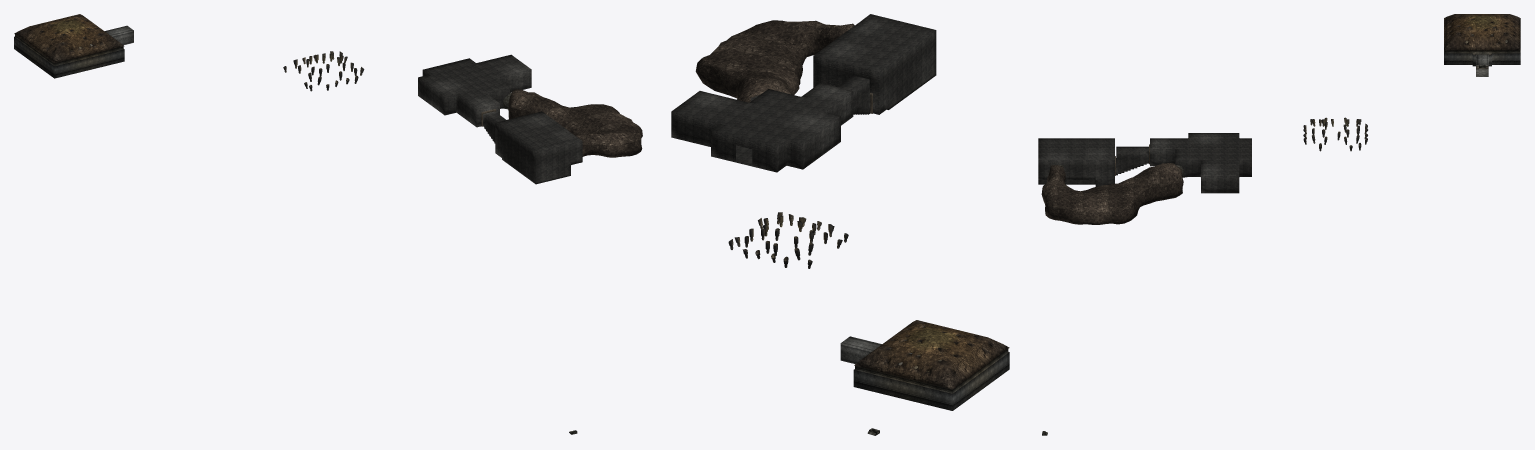
3 renders of one model, left to right at view 1: azimuth 30°, elevation 25°; view 2: azimuth 150°, elevation 25°; view 3: azimuth 270°, elevation 25°, orthographic. The views are drawn at different scales.
Visible parts, largest first — view 1: Chunk-0_Mesh-0, Chunk-12_Mesh-0, Chunk-2_Mesh-3, Chunk-11_Mesh-0, Chunk-2_Mesh-2, Chunk-1_Mesh-0; view 2: Chunk-0_Mesh-0, Chunk-2_Mesh-3, Chunk-12_Mesh-0, Chunk-2_Mesh-2, Chunk-11_Mesh-0, Chunk-1_Mesh-0, Chunk-2_Mesh-1, Chunk-4_Mesh-0; view 3: Chunk-0_Mesh-0, Chunk-12_Mesh-0, Chunk-2_Mesh-3, Chunk-11_Mesh-0, Chunk-2_Mesh-2, Chunk-1_Mesh-0.
Boxes of the visible parts, left/top/right/bottom form: Chunk-0_Mesh-0: left=418, top=54, right=582, bottom=184; Chunk-12_Mesh-0: left=511, top=89, right=639, bottom=141; Chunk-2_Mesh-3: left=14, top=14, right=124, bottom=63; Chunk-11_Mesh-0: left=508, top=95, right=642, bottom=157; Chunk-2_Mesh-2: left=14, top=28, right=124, bottom=78; Chunk-1_Mesh-0: left=283, top=51, right=364, bottom=91; Chunk-0_Mesh-0: left=671, top=14, right=936, bottom=172; Chunk-2_Mesh-3: left=854, top=320, right=1009, bottom=389; Chunk-12_Mesh-0: left=701, top=20, right=854, bottom=102; Chunk-2_Mesh-2: left=853, top=340, right=1009, bottom=410; Chunk-11_Mesh-0: left=695, top=37, right=836, bottom=99; Chunk-1_Mesh-0: left=728, top=212, right=848, bottom=268; Chunk-2_Mesh-1: left=854, top=327, right=1009, bottom=393; Chunk-4_Mesh-0: left=840, top=336, right=881, bottom=363; Chunk-0_Mesh-0: left=1038, top=133, right=1251, bottom=193; Chunk-12_Mesh-0: left=1044, top=163, right=1182, bottom=213; Chunk-2_Mesh-3: left=1444, top=14, right=1520, bottom=50; Chunk-11_Mesh-0: left=1041, top=166, right=1183, bottom=224; Chunk-2_Mesh-2: left=1444, top=22, right=1520, bottom=66; Chunk-1_Mesh-0: left=1303, top=117, right=1367, bottom=151.
Size of the model in its own units: 13468 by 10014 by 15130.
17 materials, 17 textured.
